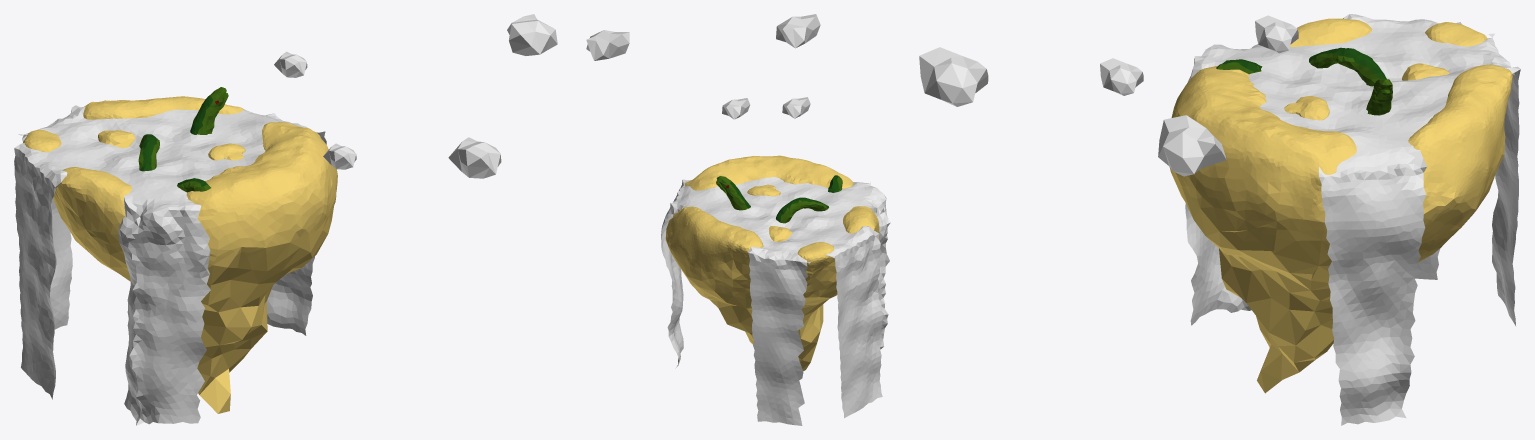
File: SandyIsland3.fbx
The picture shows the model from 3 angles, left to right: view 1: azimuth 30°, elevation 25°; view 2: azimuth 150°, elevation 25°; view 3: azimuth 270°, elevation 25°; orthographic projection. The views are drawn at different scales.
Parts seen in each view (by area): view 1: Plane.001, Icosphere, Wolke.002, Wolke, Wolke.001, Wolke.003; view 2: Plane.001, Icosphere, Wolke, Wolke.002, Wolke.001, Wolke.003; view 3: Icosphere, Plane.001, Wolke, Wolke.002, Wolke.001, Wolke.003.
Part boxes in pixels (x1=…): Plane.001: x1=14, y1=105, x2=326, y2=425; Icosphere: x1=23, y1=87, x2=337, y2=413; Wolke.002: x1=507, y1=14, x2=557, y2=55; Wolke: x1=448, y1=137, x2=501, y2=178; Wolke.001: x1=323, y1=143, x2=356, y2=169; Wolke.003: x1=274, y1=51, x2=307, y2=77; Plane.001: x1=661, y1=177, x2=890, y2=425; Icosphere: x1=665, y1=155, x2=879, y2=370; Wolke: x1=776, y1=14, x2=820, y2=48; Wolke.002: x1=586, y1=30, x2=629, y2=60; Wolke.001: x1=782, y1=97, x2=810, y2=118; Wolke.003: x1=722, y1=98, x2=750, y2=119; Icosphere: x1=1169, y1=18, x2=1512, y2=393; Plane.001: x1=1185, y1=14, x2=1520, y2=425; Wolke: x1=919, y1=47, x2=988, y2=106; Wolke.002: x1=1158, y1=115, x2=1226, y2=176; Wolke.001: x1=1100, y1=58, x2=1143, y2=95; Wolke.003: x1=1255, y1=15, x2=1298, y2=53.
Size of the model in its own units: 64253 by 48624 by 62055.
